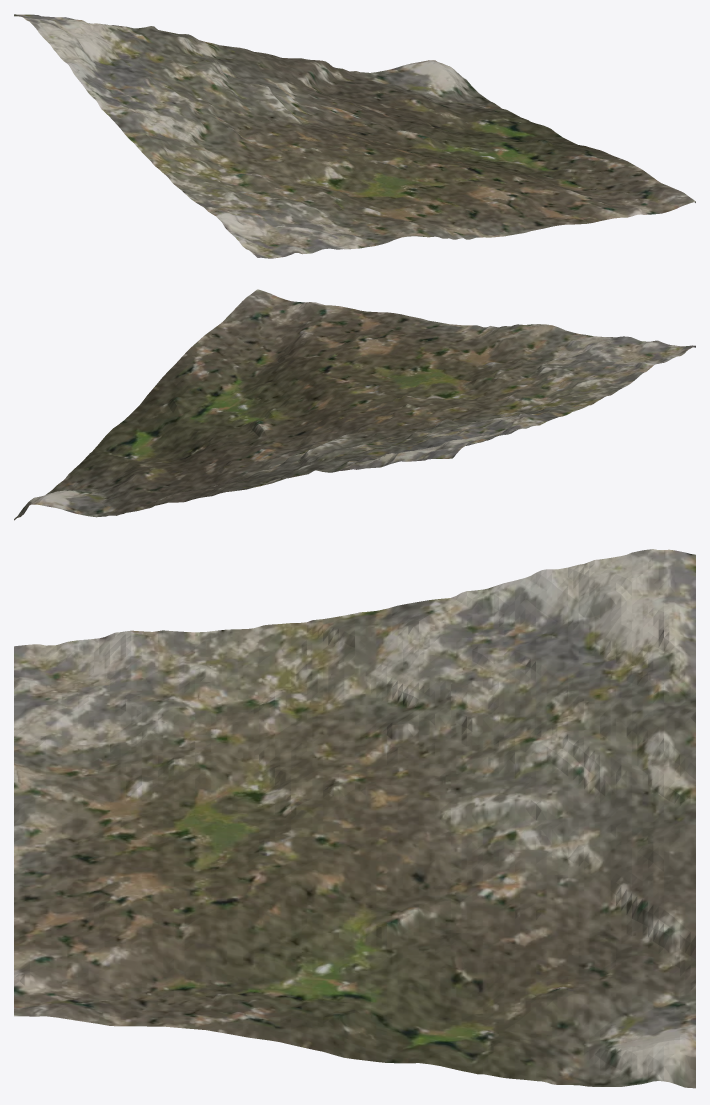
The picture shows the model from 3 angles, top to bottom: view 1: azimuth 30°, elevation 25°; view 2: azimuth 150°, elevation 25°; view 3: azimuth 270°, elevation 25°; orthographic projection. The views are drawn at different scales.
Size of the model in its own units: 250 by 94.37 by 241.
1 material, 1 textured.
